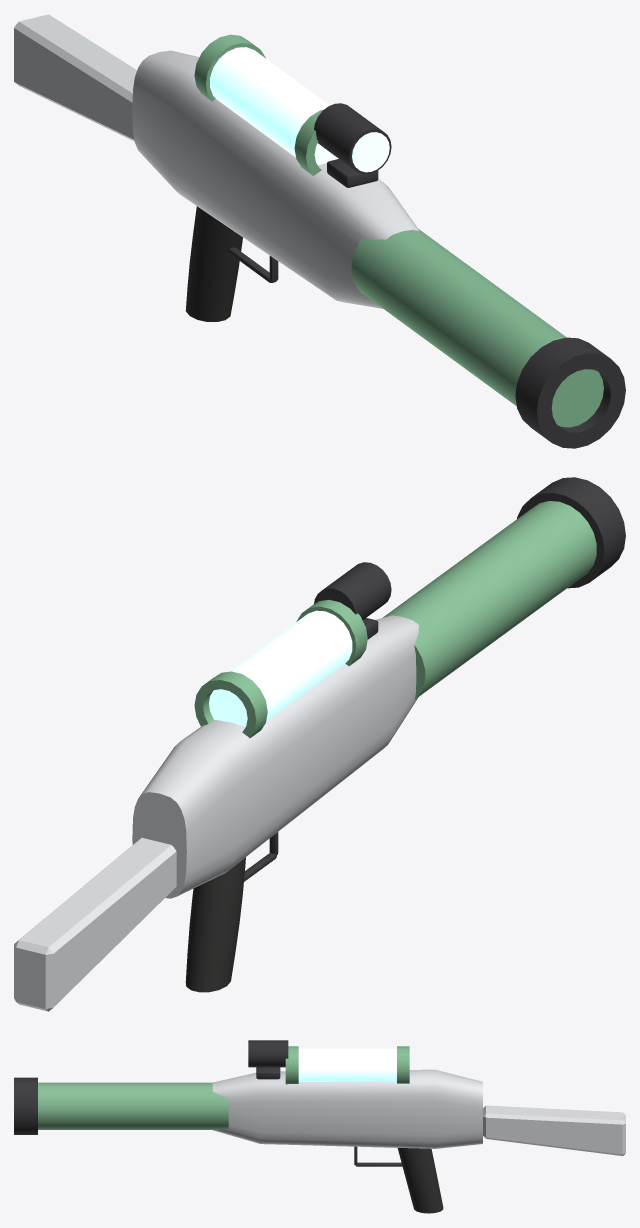
Rendered from revshooter.glb.
The picture shows the model from 3 angles, top to bottom: view 1: azimuth 30°, elevation 25°; view 2: azimuth 150°, elevation 25°; view 3: azimuth 270°, elevation 25°; orthographic projection. The views are drawn at different scales.
Parts seen in each view (by area): view 1: Body; view 2: Body; view 3: Body.
Boxes of the visible parts, x1,y1,x2,y2 form: Body: (14,14,625,448); Body: (14,477,625,1011); Body: (14,1040,625,1213).
Bounding box in the file's own units: 0.072 × 0.2317 × 0.77.
